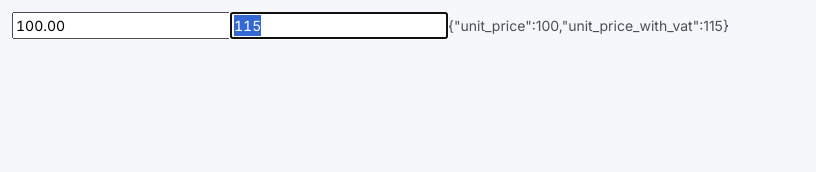
Test case: PriceInput › rejects letters, minus signs and exponent notation
Replace the text in the field with test id "inc" with "-12e3abc": (339, 26) [230,12,448,39]
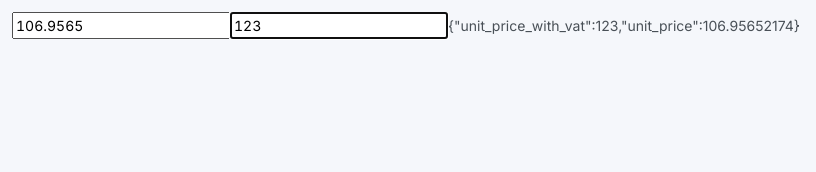
expect the field with test id "inc" holds "123": met, box [230,12,448,39]
